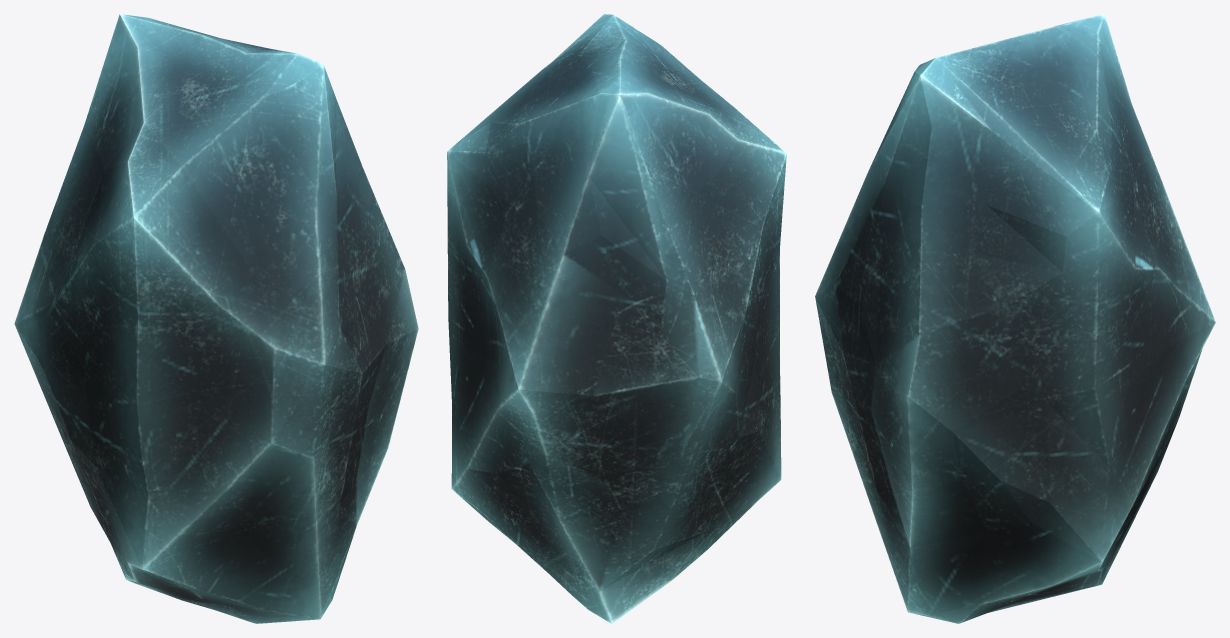
File: crystal--.glb
3 views of the same model, side by side, from view 1: azimuth 30°, elevation 25°; view 2: azimuth 150°, elevation 25°; view 3: azimuth 270°, elevation 25° (orthographic). The views are drawn at different scales.
Parts seen in each view (by area): view 1: pPlatonic1; view 2: pPlatonic1; view 3: pPlatonic1.
Part boxes in pixels (x1,y1,x2,y2): pPlatonic1: [14, 14, 418, 623]; pPlatonic1: [447, 14, 786, 623]; pPlatonic1: [815, 14, 1215, 623].
Bounding box in the file's own units: 3.48 × 6.1 × 3.89.
1 material, 1 textured.
